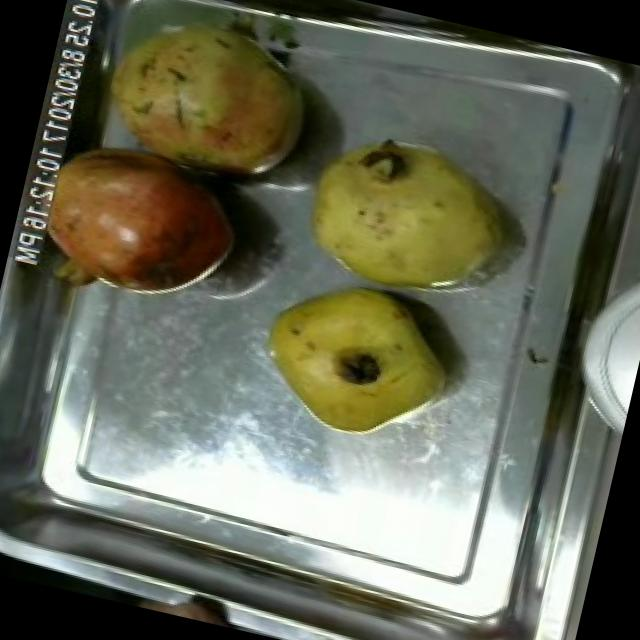fruit: (282, 107, 529, 320), (8, 118, 256, 320), (83, 0, 330, 201), (235, 259, 473, 460)
